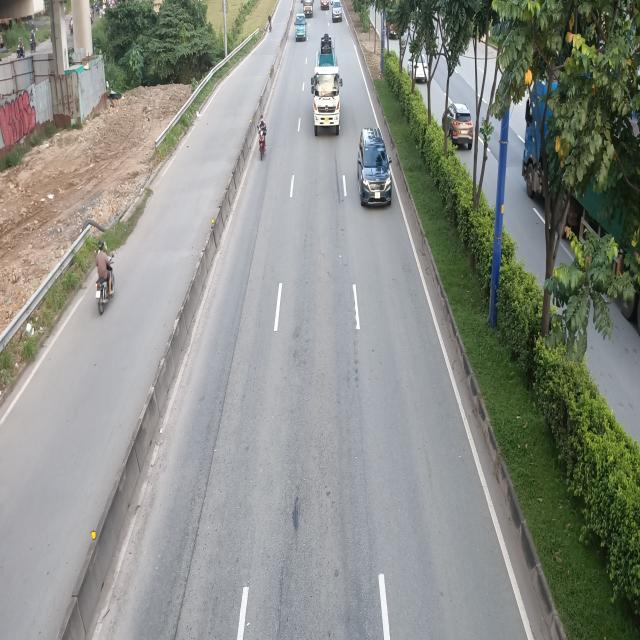car: (356, 129, 392, 210)
container: (311, 32, 344, 136)
